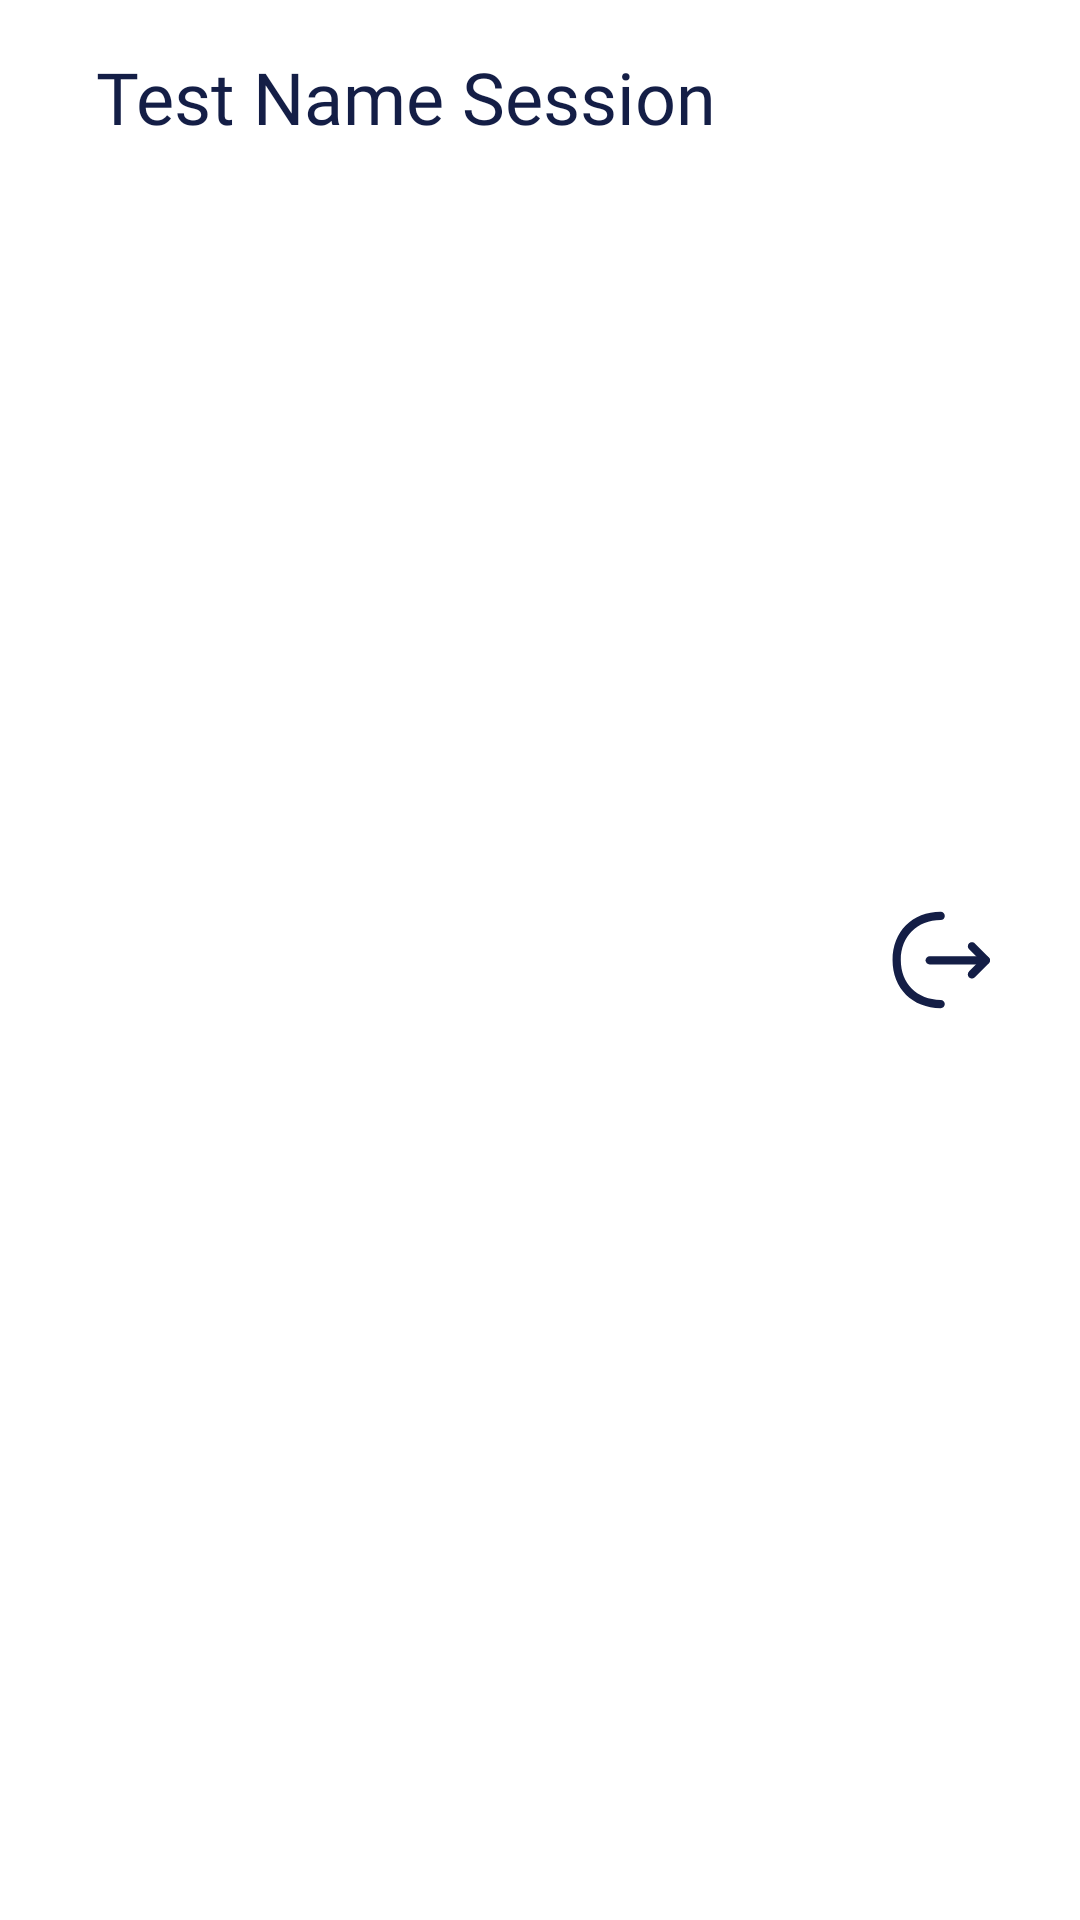

Icon click points for this 1080px×1920px phone screenshot, format (x=x, y=y):
leave: (x=941, y=960)
